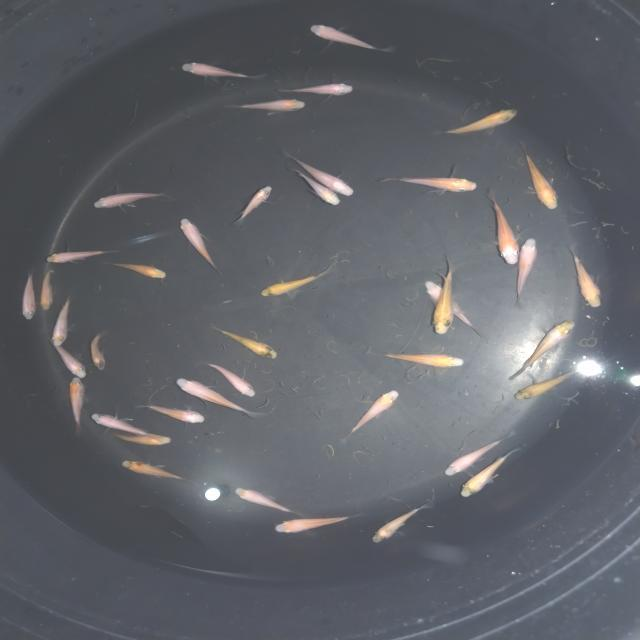nila: (502, 314, 578, 384), (415, 277, 495, 340), (456, 442, 527, 502), (170, 372, 261, 418), (284, 151, 356, 204), (512, 144, 564, 214), (301, 20, 390, 60), (428, 104, 520, 140), (345, 382, 403, 438), (205, 321, 281, 362), (486, 184, 522, 268), (508, 366, 582, 406), (173, 214, 224, 272), (438, 436, 508, 478), (254, 266, 334, 300), (37, 336, 89, 387), (364, 504, 427, 546), (510, 236, 546, 308), (568, 249, 606, 317), (228, 484, 298, 520), (204, 361, 260, 406), (82, 185, 168, 212), (286, 170, 343, 210), (384, 170, 482, 193), (136, 398, 209, 428), (114, 456, 191, 484), (266, 510, 354, 534), (429, 258, 456, 336), (177, 57, 256, 83), (379, 350, 479, 370), (88, 406, 151, 436), (227, 96, 309, 118), (272, 80, 359, 100), (110, 427, 180, 449), (39, 244, 109, 266), (48, 294, 76, 348), (12, 266, 40, 320), (232, 186, 274, 222), (109, 258, 171, 282), (30, 268, 56, 313), (66, 377, 86, 434), (86, 332, 109, 377)
